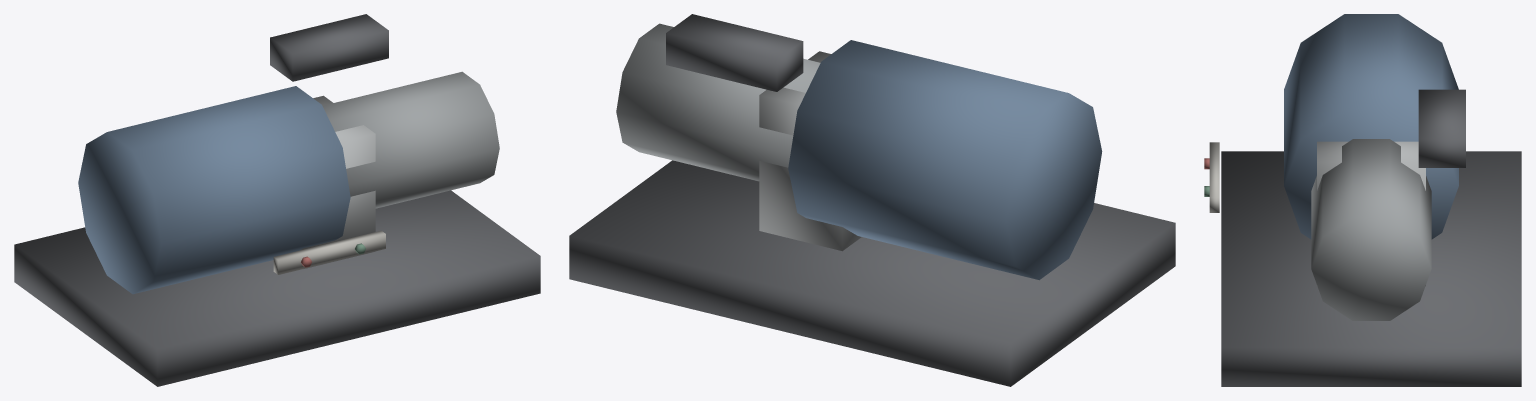
File: circulation_pump__service.glb
3 views of the same model, side by side, from view 1: azimuth 30°, elevation 25°; view 2: azimuth 150°, elevation 25°; view 3: azimuth 270°, elevation 25° (orthographic). The views are drawn at different scales.
Parts seen in each view (by area): view 1: world; view 2: world; view 3: world.
Boxes of the visible parts, box(x1,y1,x2,y2) form: world: box(14, 14, 540, 386); world: box(569, 14, 1175, 386); world: box(1204, 14, 1521, 386).
Size of the model in its own units: 0.855 by 0.4416 by 0.581.
